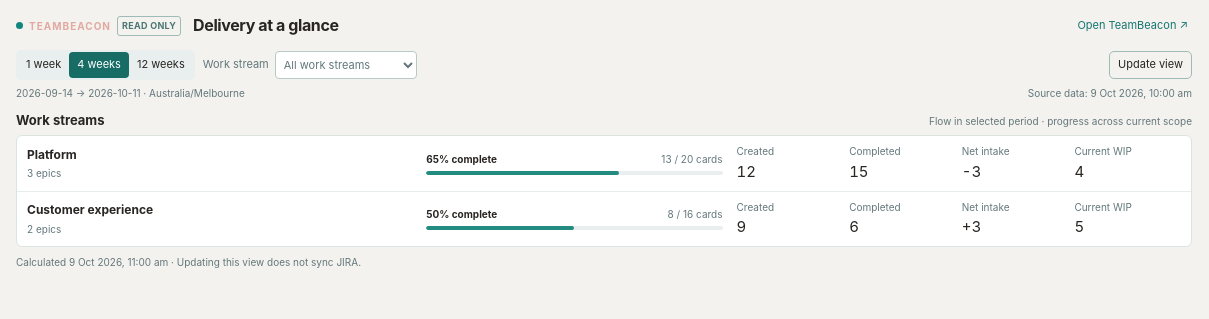
it: keeps the previous view on failed refresh and reports failed links
The width and height of the screenshot is (1209, 319).
Click the button "Update view" at coordinates (1151, 65), box [1109,51,1192,79]
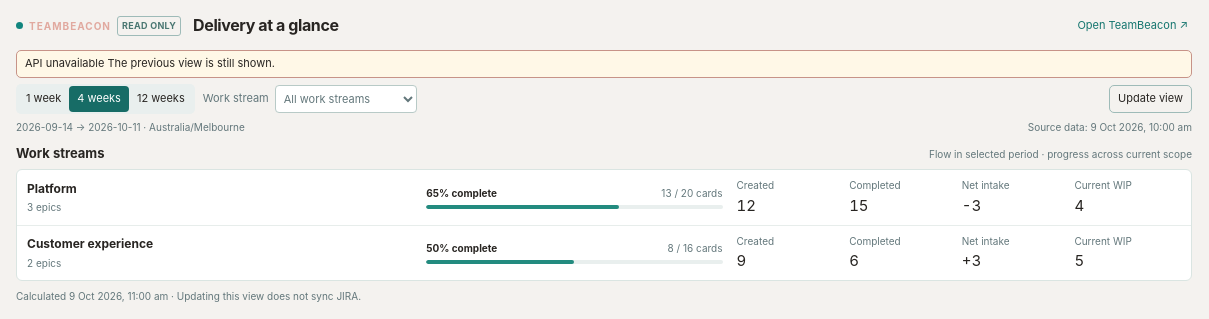
Expected: the text "65% complete" is shown, [426,186,497,200]
Now the message shows "API unavailable", box [25,56,104,70]
Click the button "Open TeamBeacon ↗" at coordinates (1133, 26), box [1073,12,1192,40]
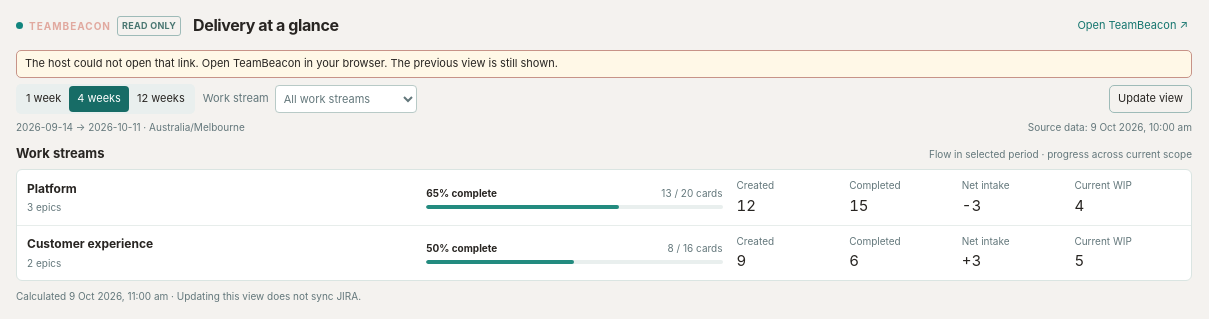
Now the message shows "could not open", box [25,56,387,70]
